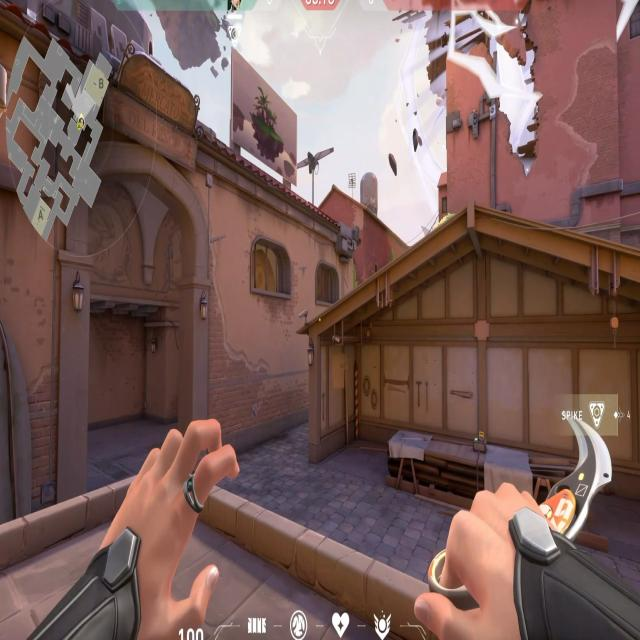B_Garage_Left: (302, 322, 487, 493)
Throwables: (248, 230, 295, 304), (311, 257, 343, 309)
